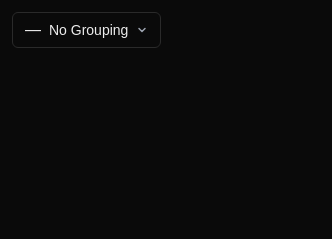
Test: GroupSelector › selects a grouping option
Click the button with aria-label "group by options" at (87, 30), box x1=12 y1=12 x2=161 y2=48
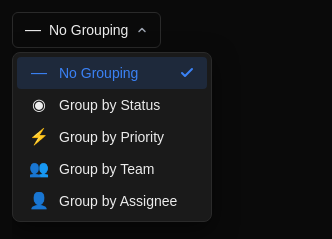
Click the option "◉ Group by Status" at (112, 105), box x1=17 y1=89 x2=207 y2=121
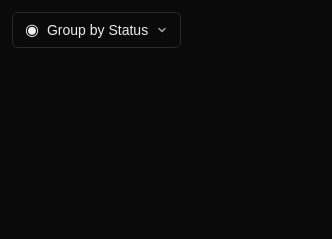
Now the text "Group by Status" is shown, box x1=47 y1=22 x2=148 y2=38
